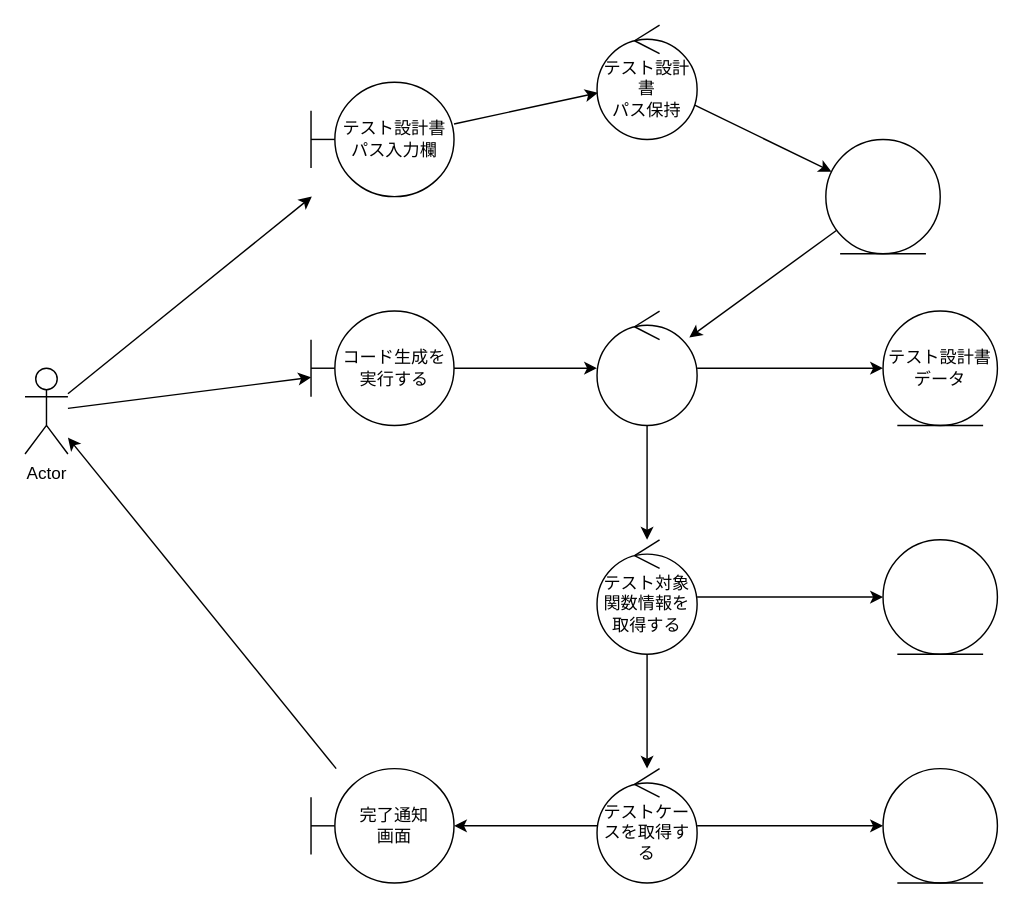
This 1022x908 diagram has some shape labels left out. Here are the shapes that lost their labels. From the top down, the centre of each, then its label:
At (x=882, y=196): "テスト設計書 パス".
At (x=646, y=367): "テスト設計書を 開く".
At (x=939, y=596): "テスト対象 関数 情報".
At (x=939, y=825): "テストケース 情報".
